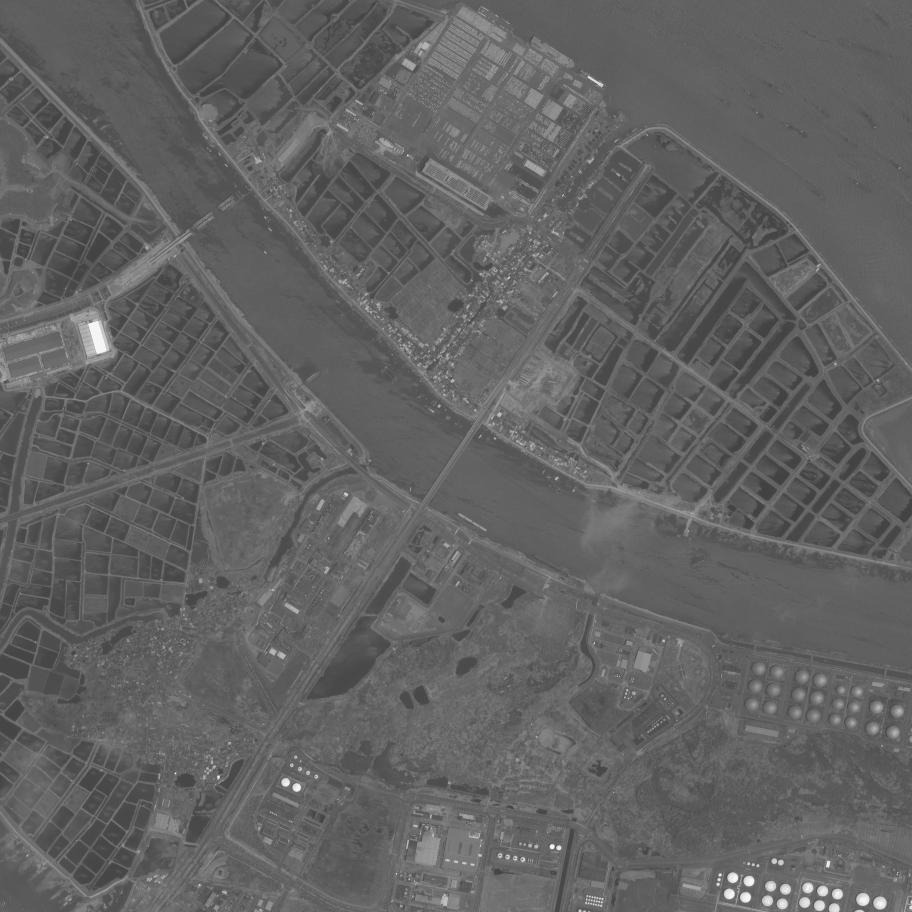ship: (529, 36, 577, 71), (477, 5, 516, 33), (578, 69, 608, 91), (192, 211, 214, 228), (196, 214, 215, 231), (852, 179, 873, 194), (303, 369, 322, 385), (216, 195, 235, 210), (219, 198, 237, 213), (380, 368, 395, 385), (383, 365, 398, 382), (895, 164, 912, 179), (865, 114, 877, 129), (827, 649, 849, 657), (817, 107, 831, 119), (744, 89, 759, 100), (752, 108, 765, 120), (618, 162, 633, 172), (725, 632, 745, 638), (764, 638, 781, 645), (676, 534, 692, 541), (693, 559, 706, 567), (771, 86, 784, 94), (798, 129, 810, 137), (782, 122, 793, 130), (205, 146, 212, 153), (631, 127, 638, 133), (799, 132, 806, 137), (720, 533, 731, 536), (25, 853, 31, 858), (614, 138, 620, 143), (268, 227, 273, 232), (223, 163, 228, 168), (63, 901, 68, 906), (568, 188, 572, 193), (719, 535, 729, 537), (580, 180, 583, 186), (263, 250, 267, 254), (576, 187, 581, 190), (218, 152, 221, 156)
storage-tank: (886, 725, 901, 740), (869, 700, 884, 715), (806, 709, 820, 724), (856, 892, 870, 907), (763, 701, 777, 715), (745, 698, 759, 712), (767, 683, 781, 697), (788, 706, 802, 720), (795, 670, 809, 684), (873, 896, 887, 910), (749, 680, 762, 694), (752, 662, 766, 675), (865, 722, 879, 735), (890, 705, 904, 718), (810, 692, 824, 705), (792, 688, 805, 701), (847, 701, 860, 713), (832, 699, 845, 711), (814, 674, 827, 686), (761, 895, 773, 907), (802, 882, 814, 894), (776, 898, 788, 910), (765, 880, 777, 892), (771, 666, 783, 678), (829, 714, 841, 726), (845, 717, 857, 729), (851, 686, 863, 698), (798, 897, 811, 908), (813, 900, 825, 911), (817, 886, 829, 897), (780, 883, 791, 895), (723, 889, 735, 900), (744, 875, 755, 887), (832, 889, 843, 900), (740, 892, 751, 903), (728, 872, 738, 884), (828, 903, 840, 912), (292, 783, 302, 792), (281, 778, 290, 787), (837, 686, 846, 694), (778, 859, 784, 866), (771, 858, 777, 864), (497, 853, 503, 859), (512, 855, 518, 861), (549, 844, 555, 850), (556, 845, 562, 851), (505, 854, 510, 860), (520, 857, 526, 862), (297, 767, 302, 772), (314, 774, 318, 779), (306, 770, 310, 775), (534, 844, 538, 849), (528, 843, 532, 848), (718, 873, 722, 877), (403, 891, 407, 895), (294, 755, 298, 759), (290, 763, 294, 767), (632, 691, 636, 695), (717, 878, 721, 881), (716, 883, 720, 886), (756, 864, 759, 868), (404, 888, 408, 891), (403, 875, 407, 878), (662, 639, 665, 643), (585, 898, 588, 901), (596, 897, 599, 900), (747, 862, 750, 865), (752, 863, 755, 866), (400, 875, 403, 878), (404, 872, 407, 875), (407, 878, 410, 881), (408, 874, 411, 877), (299, 760, 302, 763), (649, 729, 652, 732), (656, 723, 659, 726), (664, 698, 667, 701), (661, 694, 664, 697), (626, 689, 629, 692), (523, 843, 526, 846), (519, 842, 522, 845), (896, 874, 899, 876), (596, 900, 598, 903), (598, 904, 600, 907), (601, 901, 603, 904), (591, 899, 593, 902), (601, 898, 604, 900), (594, 896, 596, 899), (591, 896, 593, 899), (589, 895, 591, 898), (404, 895, 406, 898), (624, 696, 626, 699), (654, 725, 656, 728), (660, 721, 663, 723), (627, 697, 630, 699), (625, 692, 627, 695), (600, 905, 602, 907), (595, 904, 597, 906), (593, 903, 595, 905), (590, 903, 592, 905), (585, 902, 587, 904), (598, 901, 600, 903), (593, 900, 595, 902), (588, 899, 590, 901), (599, 898, 601, 900), (669, 704, 671, 706), (586, 895, 588, 897), (897, 871, 899, 873), (647, 731, 649, 733), (652, 728, 654, 730), (663, 719, 665, 721), (670, 701, 672, 703), (893, 869, 895, 871), (617, 674, 619, 676), (619, 676, 621, 678), (588, 902, 589, 904), (672, 703, 673, 705), (668, 703, 670, 704), (633, 678, 635, 679), (631, 677, 632, 679), (621, 704, 622, 706), (631, 696, 632, 698), (633, 679, 634, 681), (630, 680, 632, 681), (615, 675, 617, 676), (617, 676, 619, 677), (622, 699, 623, 700), (621, 703, 622, 704), (628, 695, 629, 696), (629, 692, 630, 693), (667, 701, 668, 702), (669, 700, 670, 701), (631, 679, 632, 680), (632, 681, 633, 682), (621, 675, 622, 676), (619, 675, 620, 676), (616, 674, 617, 675), (614, 675, 615, 676), (630, 682, 631, 683), (629, 694, 630, 694), (614, 674, 615, 674)
